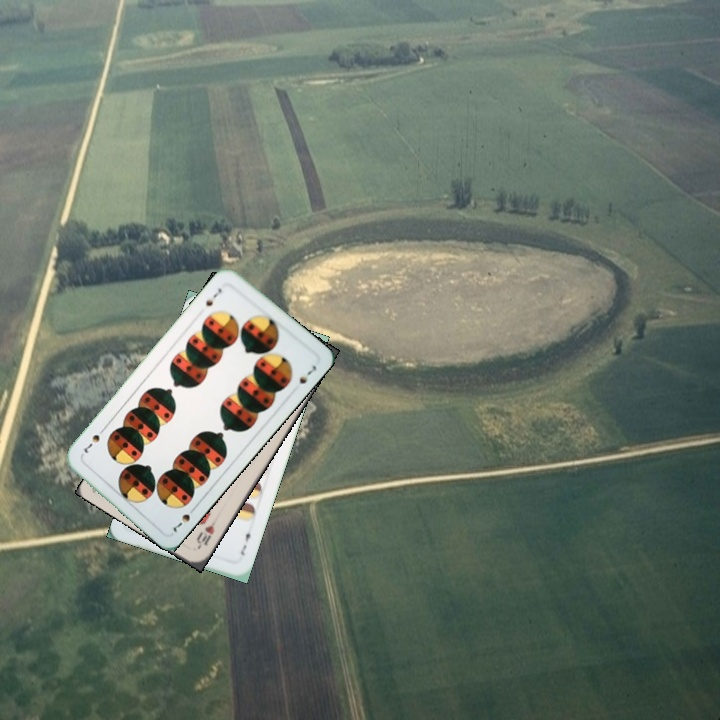E7: (236, 525, 255, 558)
H10: (192, 514, 220, 551)
S7: (168, 502, 199, 537), (202, 284, 224, 309)
